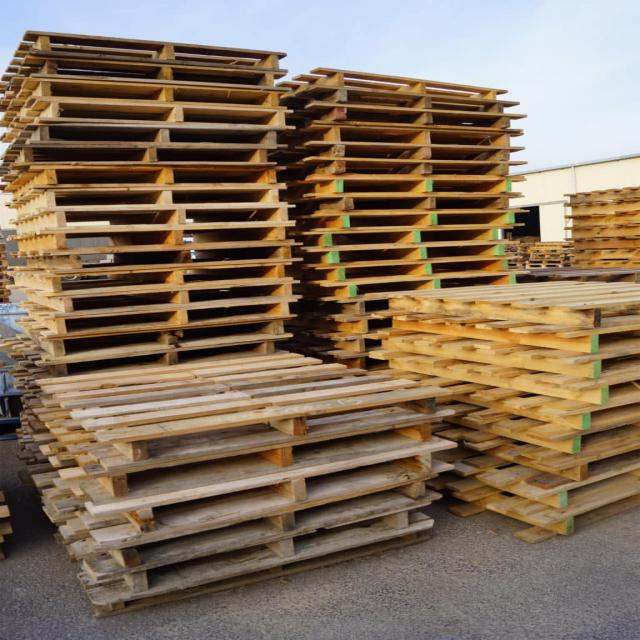Palette: (6, 348, 496, 614), (0, 22, 292, 386), (296, 62, 531, 366), (381, 269, 640, 543), (556, 176, 640, 268)
